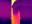Hotspot: (12, 0, 16, 5)
